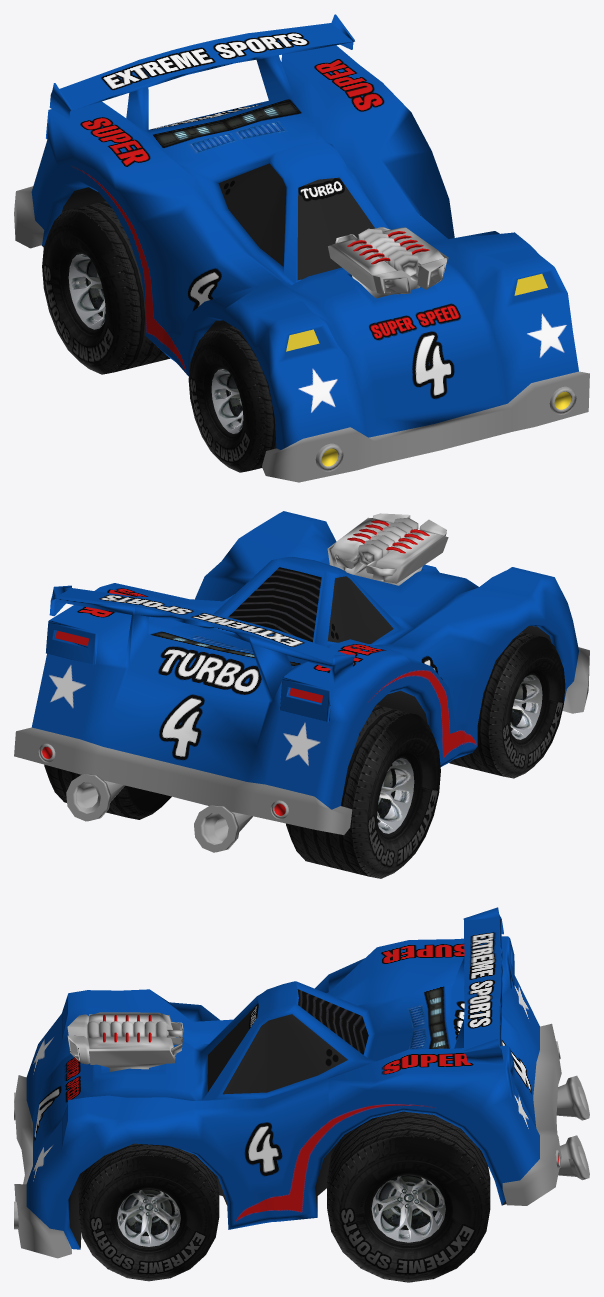
The model's file is toonSportsCar.fbx.
3 views of the same model, one above another, from view 1: azimuth 30°, elevation 25°; view 2: azimuth 150°, elevation 25°; view 3: azimuth 270°, elevation 25° (orthographic). The views are drawn at different scales.
Visible parts, largest first — view 1: Body, RRWheel, FRWheel; view 2: Body, RRWheel, FRWheel, RLWheel; view 3: Body, RLWheel, FLWheel.
Part boxes in pixels (box(x1,y1,x2,y2)): Body: box(14, 14, 589, 482); RRWheel: box(42, 200, 170, 374); FRWheel: box(188, 326, 276, 472); Body: box(14, 511, 589, 852); RRWheel: box(286, 704, 440, 878); FRWheel: box(449, 632, 565, 778); RLWheel: box(44, 764, 171, 819); Body: box(14, 907, 589, 1258); RLWheel: box(327, 1111, 490, 1282); FLWheel: box(79, 1143, 219, 1281).
Bounding box in the file's own units: 0.726 × 0.5323 × 1.15.
